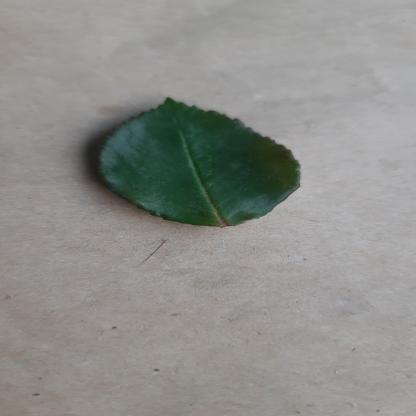normal: (92, 96, 307, 229)
